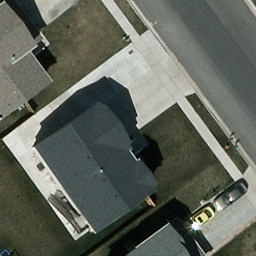car: (178, 204, 219, 238), (217, 182, 251, 213)
